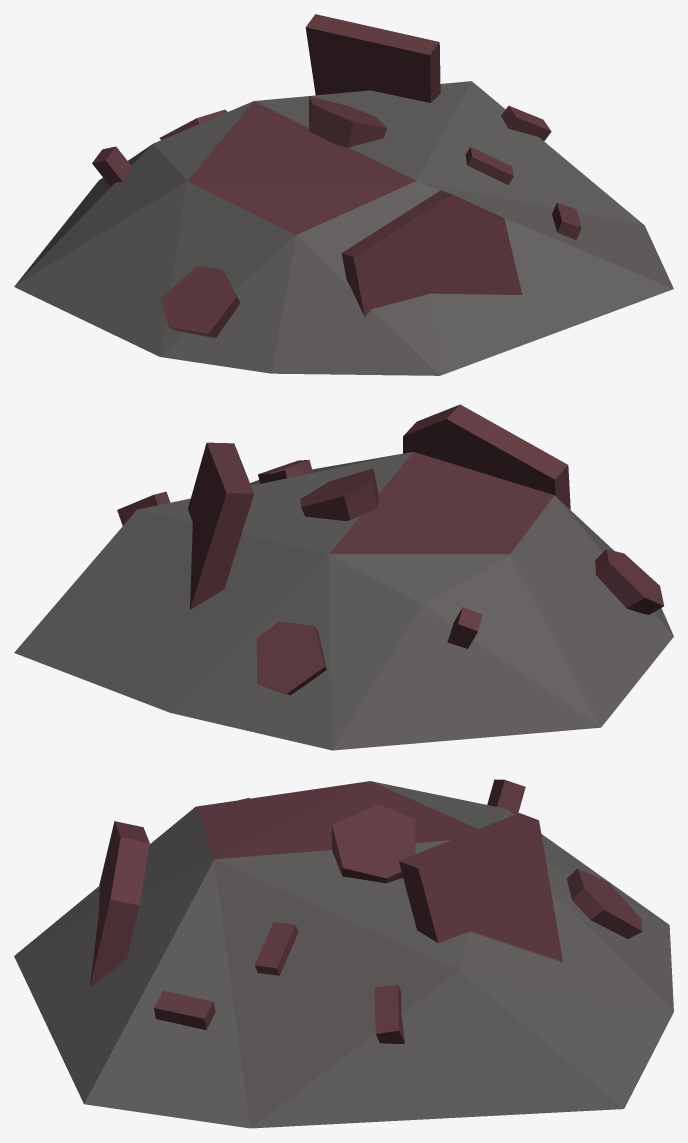
File: rubble-concrete-apocalypse-a.fbx
The picture shows the model from 3 angles, top to bottom: view 1: azimuth 30°, elevation 25°; view 2: azimuth 150°, elevation 25°; view 3: azimuth 270°, elevation 25°; orthographic projection. The views are drawn at different scales.
Parts seen in each view (by area): view 1: rubble-concrete-apocalypse-a; view 2: rubble-concrete-apocalypse-a; view 3: rubble-concrete-apocalypse-a.
Boxes of the visible parts, left/top/right/bottom form: rubble-concrete-apocalypse-a: left=14, top=14, right=673, bottom=375; rubble-concrete-apocalypse-a: left=14, top=404, right=673, bottom=750; rubble-concrete-apocalypse-a: left=14, top=779, right=673, bottom=1128.
Bounding box in the file's own units: 5.27 × 1.6 × 4.9.
